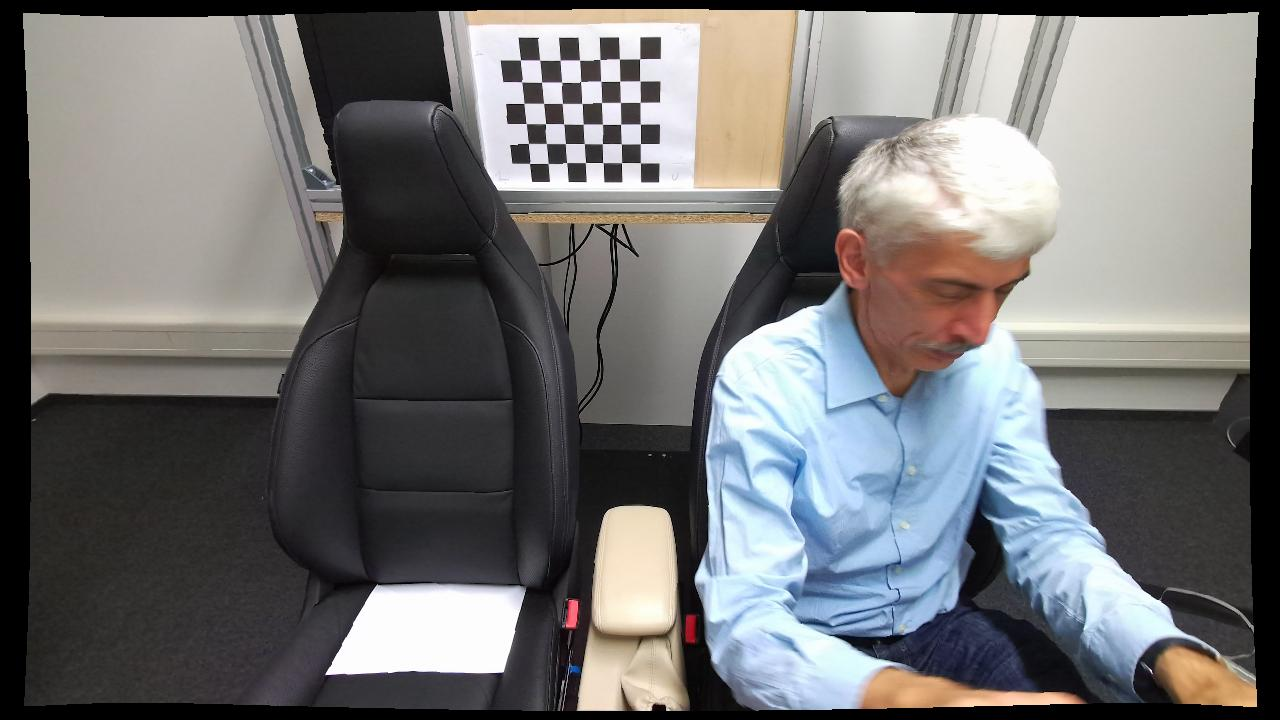Distracted: (698, 108, 1127, 706)
